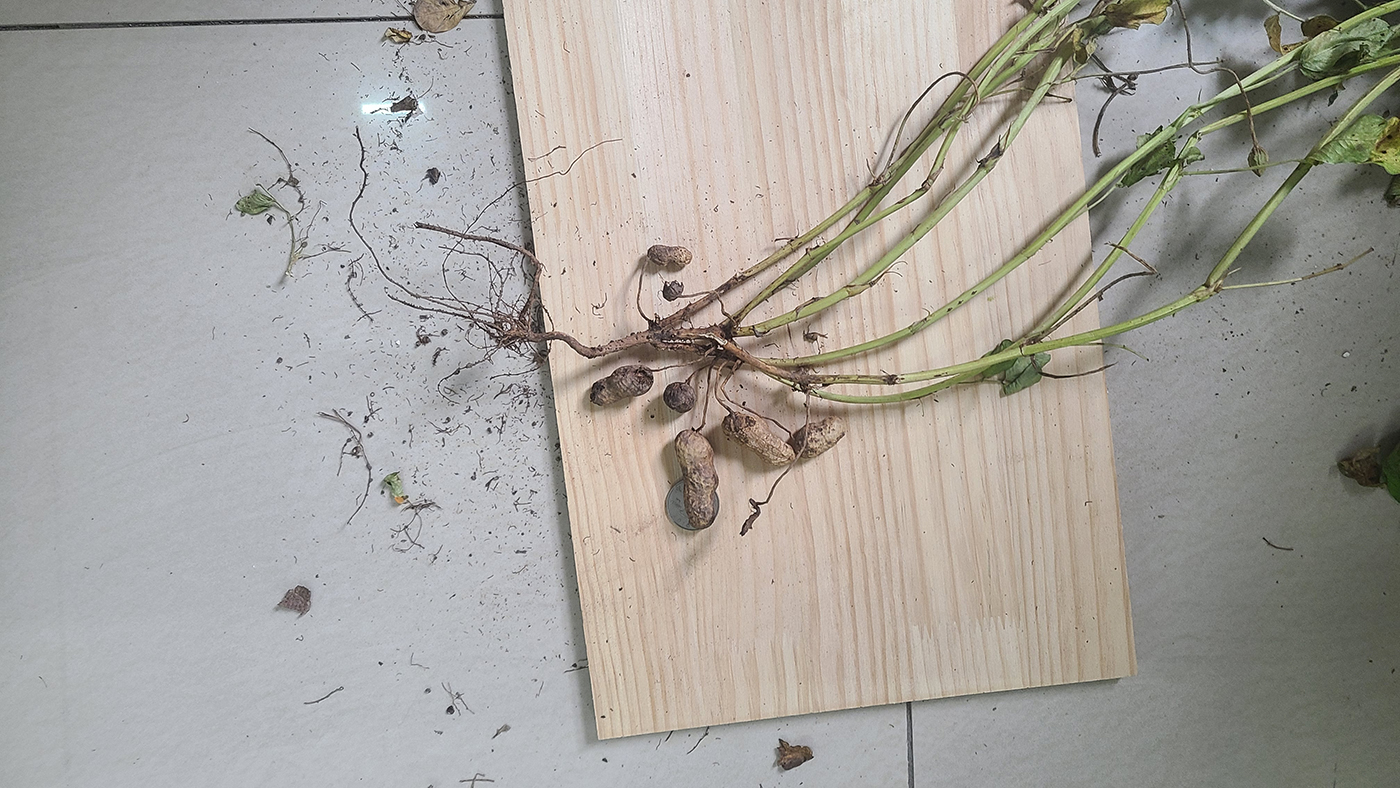h: (795, 416, 846, 460)
l: (675, 428, 718, 528), (724, 410, 794, 467), (591, 364, 655, 407), (663, 381, 698, 414), (648, 244, 693, 265), (661, 280, 685, 301)
